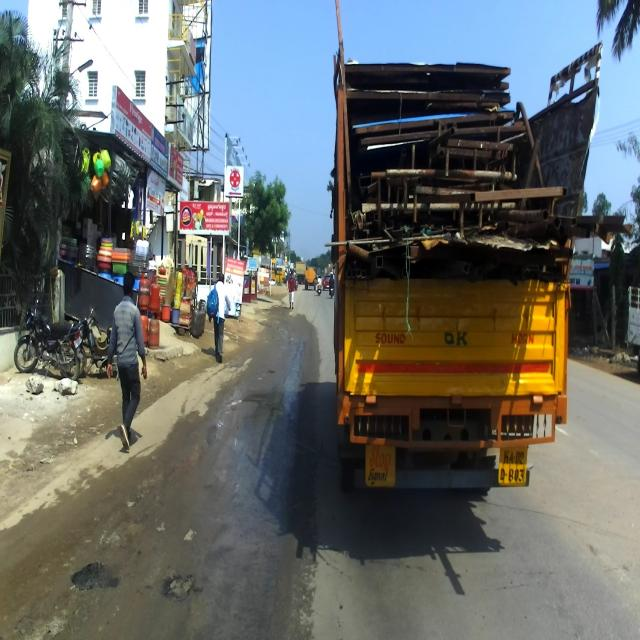motorcycle_Hero: (14, 291, 83, 381)
motorcycle_TVS: (80, 303, 122, 377)
truck: (323, 0, 602, 494)
